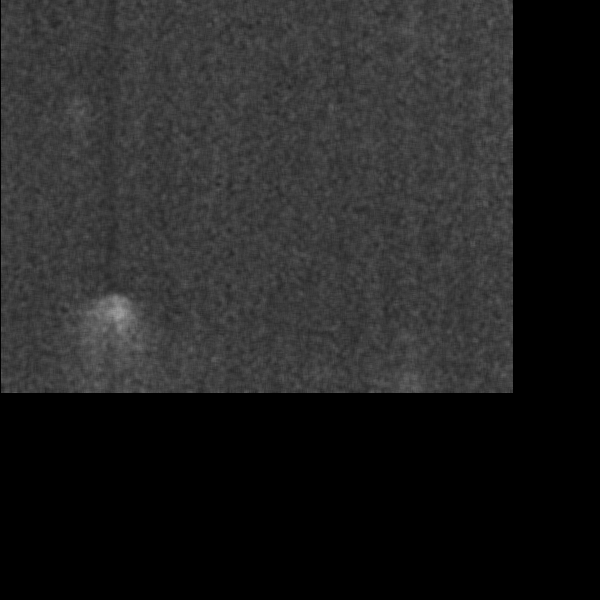spark: (87, 293, 142, 358), (400, 368, 420, 391)
